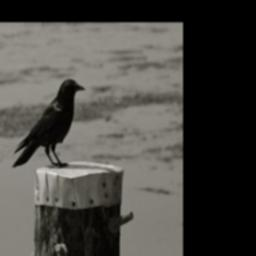Crow: (10, 75, 85, 172)
